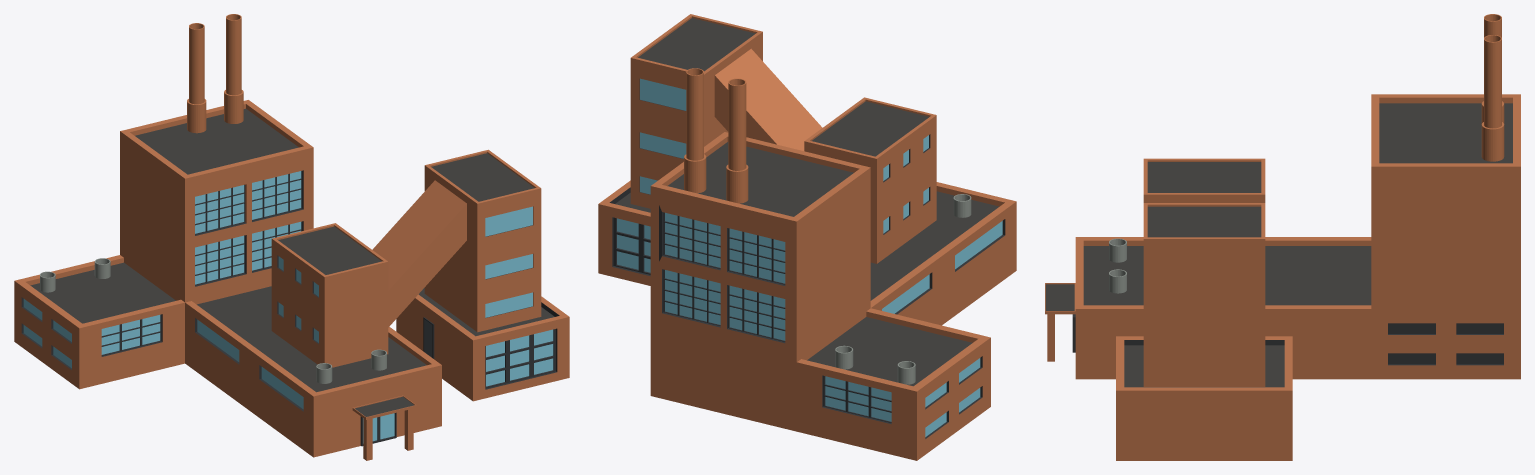
Rendered from SM_Factory_02_A.gltf.
The picture shows the model from 3 angles, left to right: view 1: azimuth 30°, elevation 25°; view 2: azimuth 150°, elevation 25°; view 3: azimuth 270°, elevation 25°; orthographic projection. The views are drawn at different scales.
Parts seen in each view (by area): view 1: SM_Factory_02_A; view 2: SM_Factory_02_A; view 3: SM_Factory_02_A.
Part boxes in pixels (x1,y1,x2,y2): SM_Factory_02_A: (14,14,569,460); SM_Factory_02_A: (598,14,1016,460); SM_Factory_02_A: (1045,14,1520,460).
Size of the model in its own units: 8.74 by 6.32 by 8.25.
